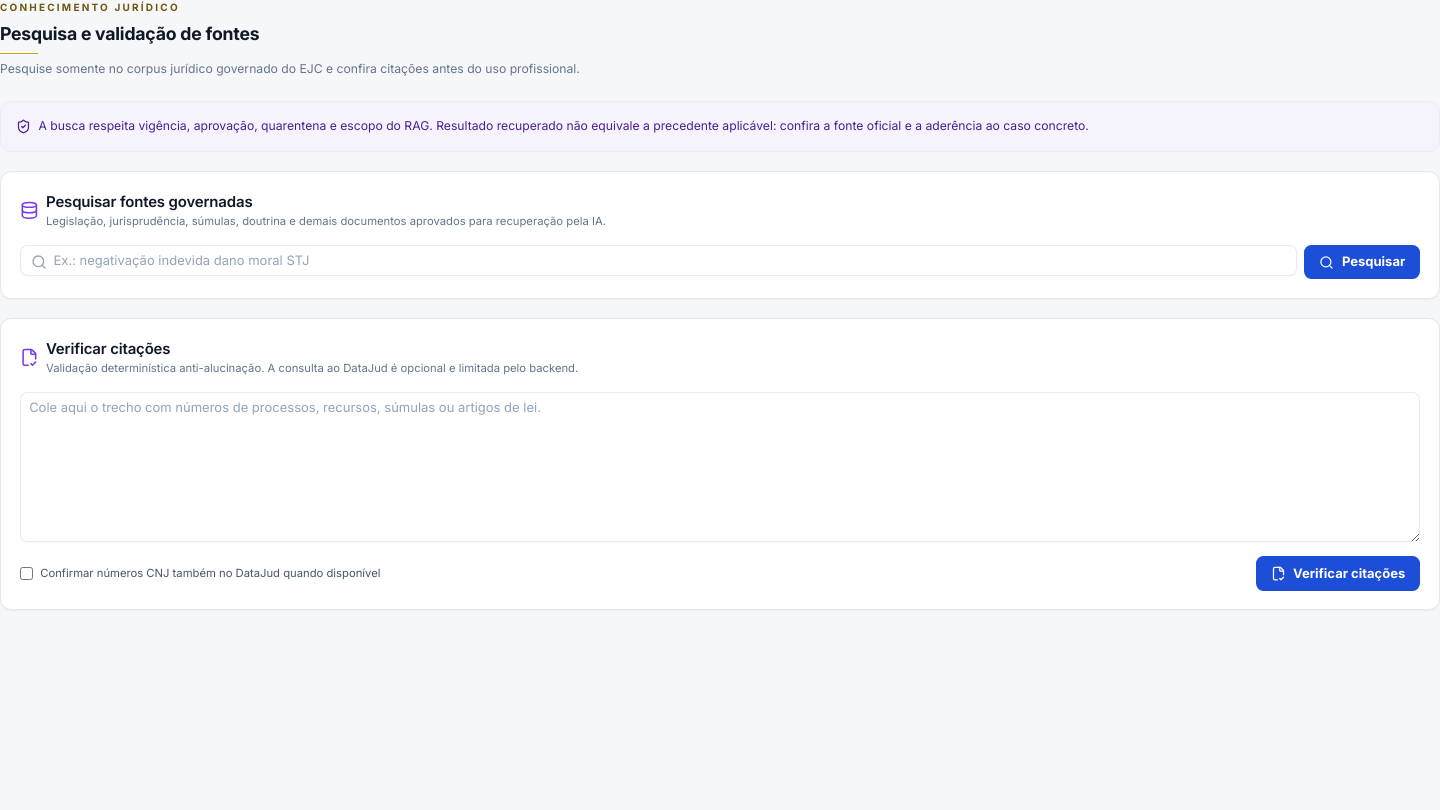
Test: PesquisaJuridica — P0 Inteligência Jurídica › valida citações com DataJud somente quando o usuário opta
Replace the text in the text box with placeholder "Cole aqui o trecho com números de processos" with "Processo 0000000-00.2026.8.13.0000" at x=720, y=467, box 20,392 -> 1420,542
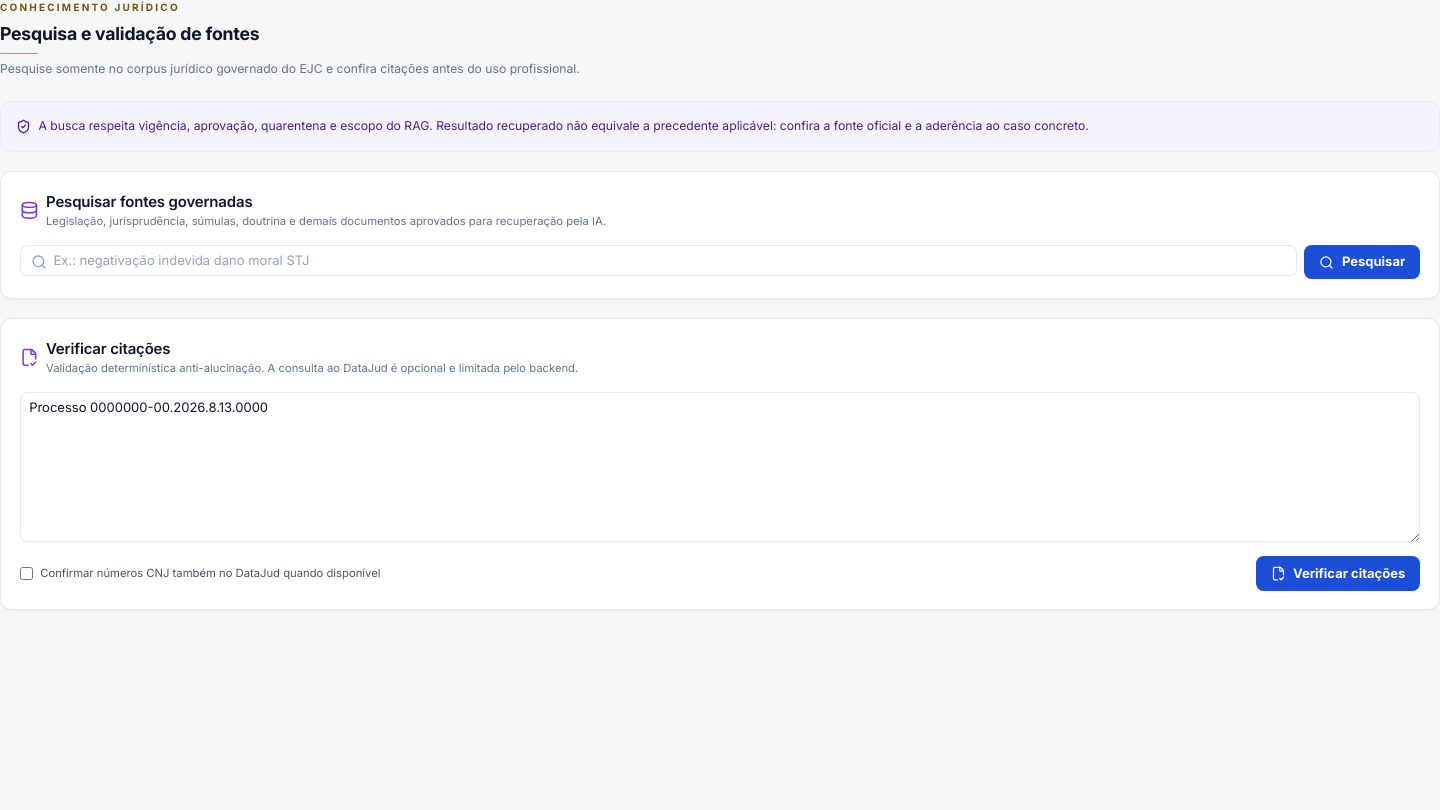
Click the checkbox labelled "Confirmar números CNJ também no DataJud quando disponível".
click(26, 573)  # box 20,567 -> 33,580
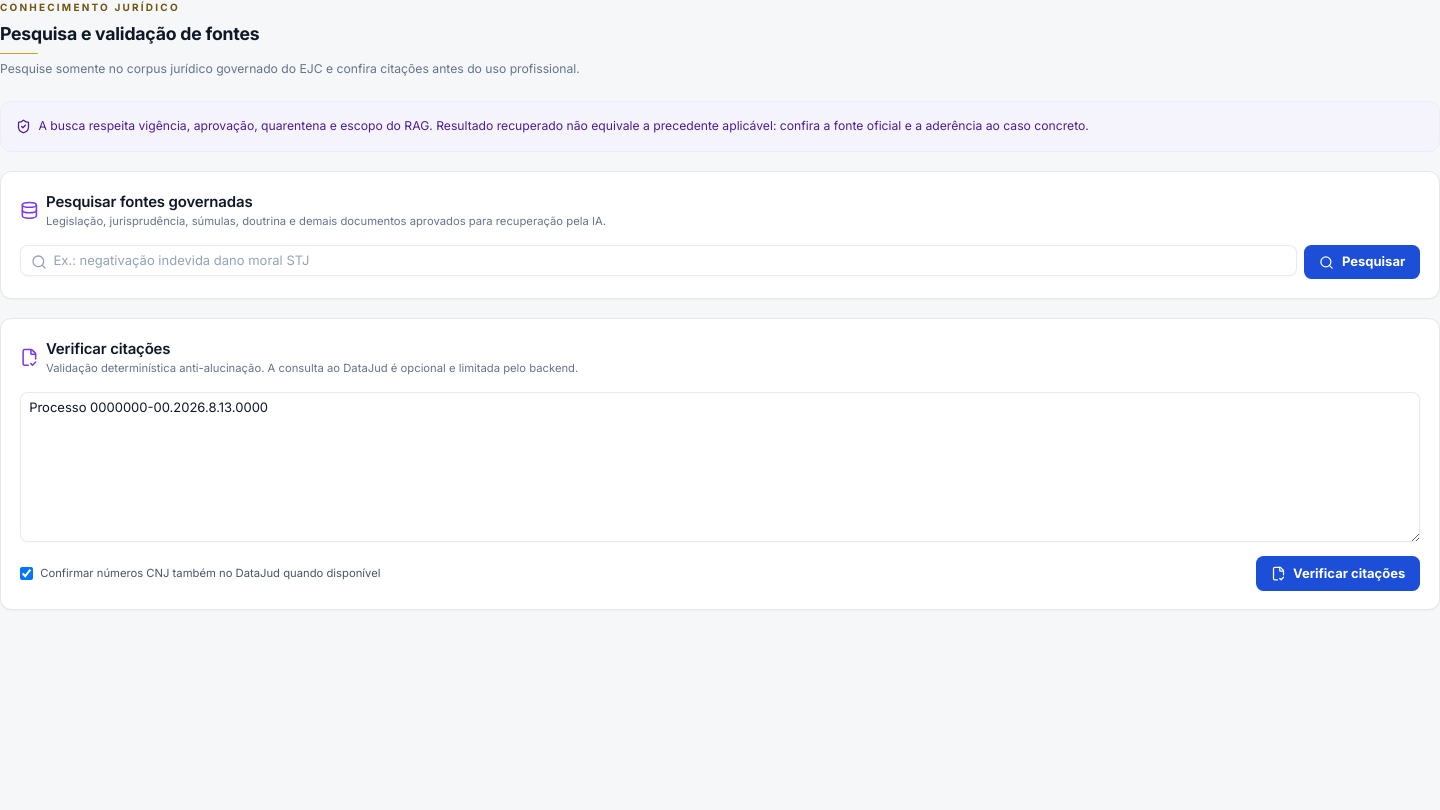
Click the button "Verificar citações".
click(1338, 573)  # box 1256,556 -> 1420,590
(page scrolled)
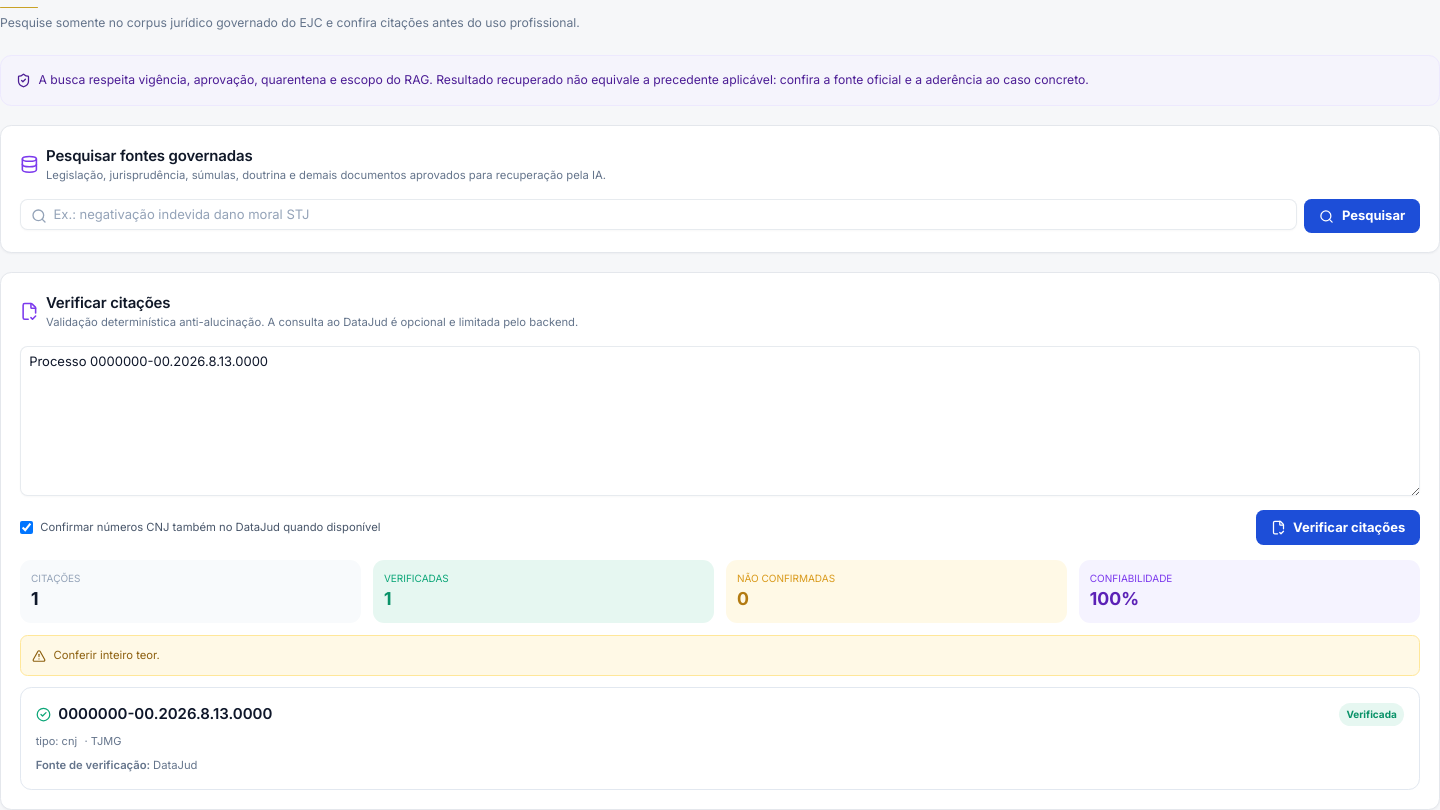
Result: the text "Verificada" is shown at 1339,703 -> 1404,726
Result: the text "100%" is shown at 1090,588 -> 1139,609
Result: the text "Fonte de verificação: DataJud" is shown at 36,758 -> 198,772
